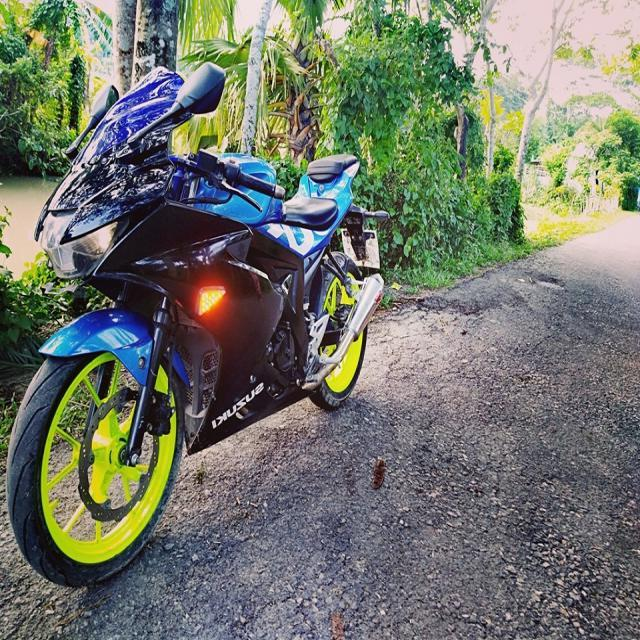Motorbike: (6, 40, 407, 600)
